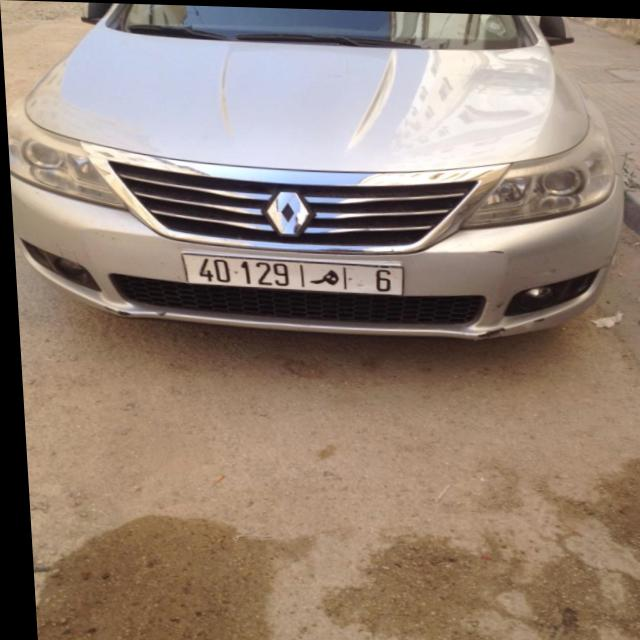License-Plate: (180, 253, 400, 292)
